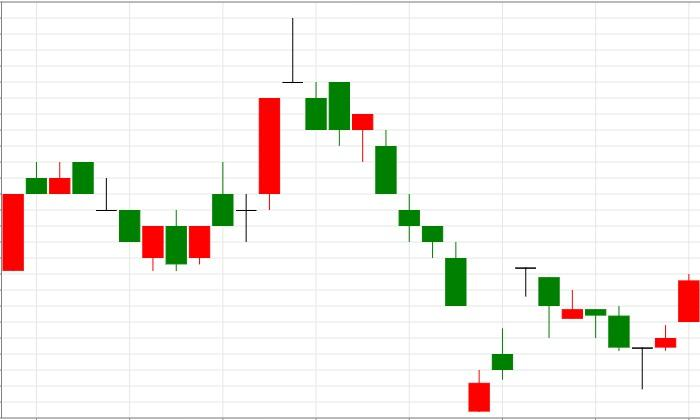evening_star_fall: (189, 18, 326, 266)
